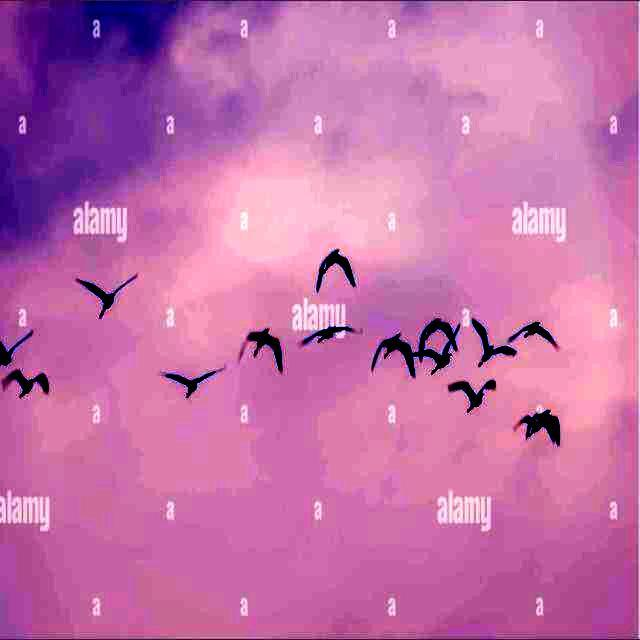bird: (370, 323, 414, 382), (311, 246, 364, 291), (76, 277, 132, 316), (446, 380, 500, 419), (240, 328, 286, 373), (471, 321, 512, 365), (5, 368, 56, 403), (167, 365, 220, 397), (301, 325, 359, 353), (510, 309, 556, 342), (0, 327, 34, 369), (425, 339, 459, 374), (540, 404, 568, 440), (418, 318, 458, 342), (516, 418, 542, 448)
